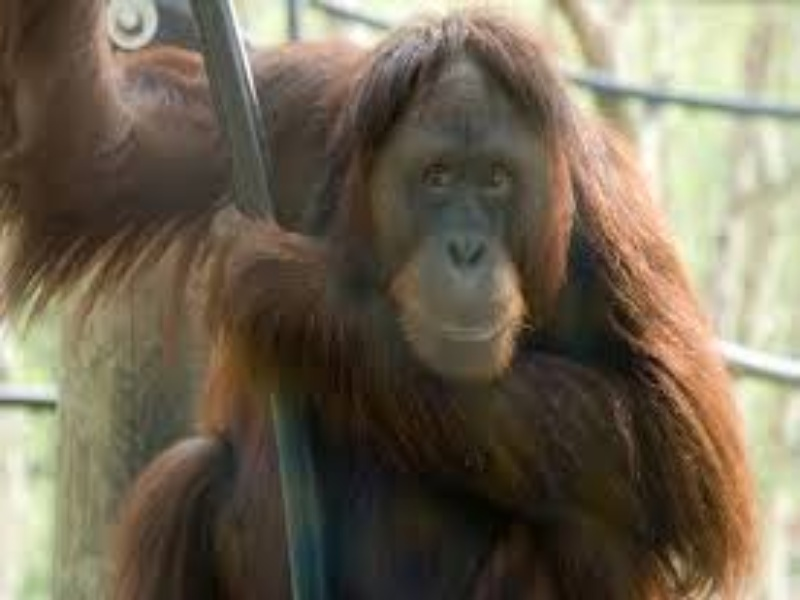monkey: (228, 12, 762, 582)
